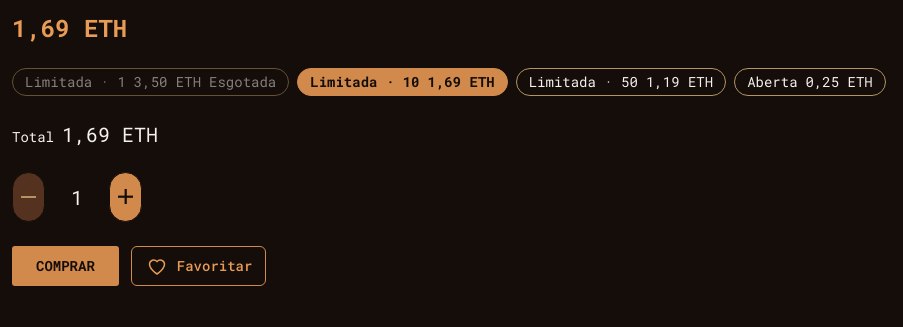
NftPurchasePanel (pt-BR) › no limite min(remaining, maxPerOrder) desabilita aumentar e mostra a mensagem
The image size is (903, 327).
Click the button named "Aumentar quantidade". click: (126, 197)
box: [109,172,142,222]
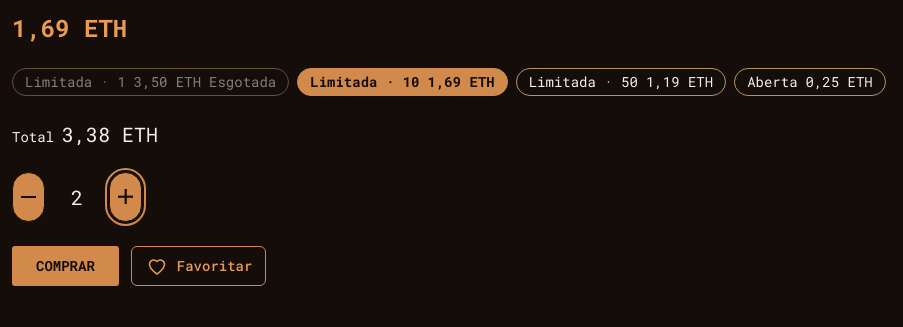
Click the button named "Aumentar quantidade". click: (126, 197)
box: [109,172,142,222]
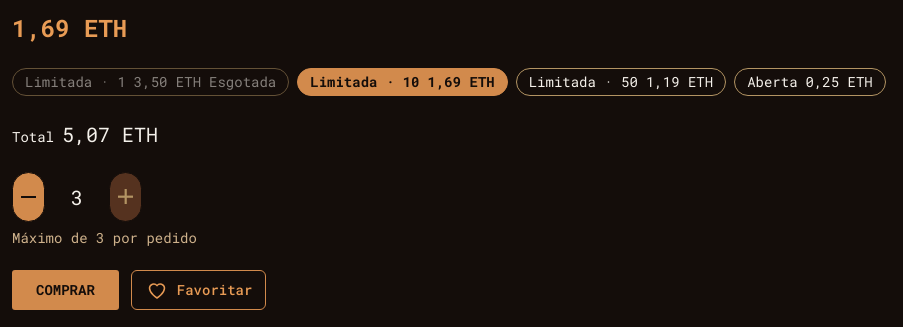
Expected: the number field named "Quantidade" holds "3", [57,183,97,211]
Expected: the button named "Aumentar quantidade" is disabled, [109,172,142,222]
Expected: the text "5,07 ETH" is shown, [62,120,158,148]
